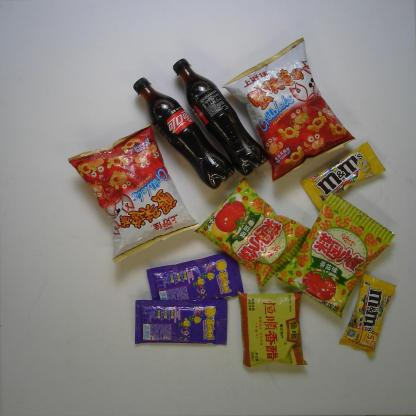Candy: (146, 250, 245, 312), (135, 298, 228, 346)
Chocolate: (301, 142, 386, 211), (338, 274, 396, 356)
Drink: (133, 77, 234, 189), (173, 58, 268, 176)
Puffed Food: (222, 38, 356, 182), (68, 125, 200, 262), (276, 192, 395, 320), (194, 178, 313, 288)
Seasoner: (237, 289, 308, 366)
